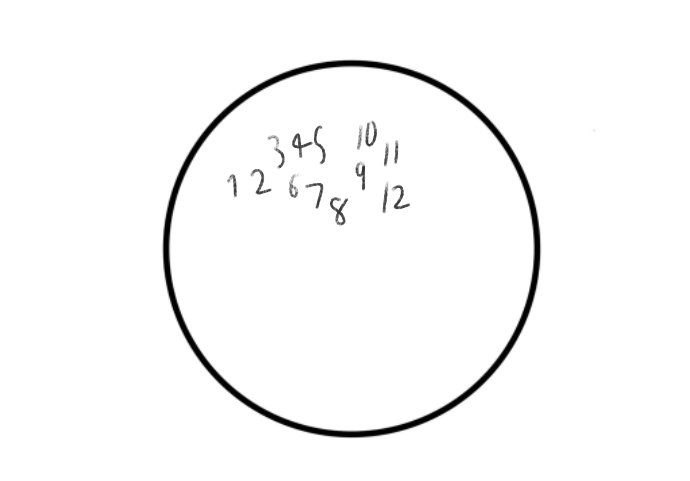eight: (328, 193, 349, 227)
eleven: (381, 138, 401, 169)
five: (315, 123, 326, 167)
four: (291, 130, 312, 163)
nine: (353, 159, 370, 192)
one: (226, 173, 240, 198)
seven: (307, 180, 324, 207)
six: (288, 172, 303, 199)
ten: (355, 116, 381, 152)
three: (266, 131, 286, 170)
twelve: (383, 181, 415, 216)
two: (249, 166, 273, 196)
